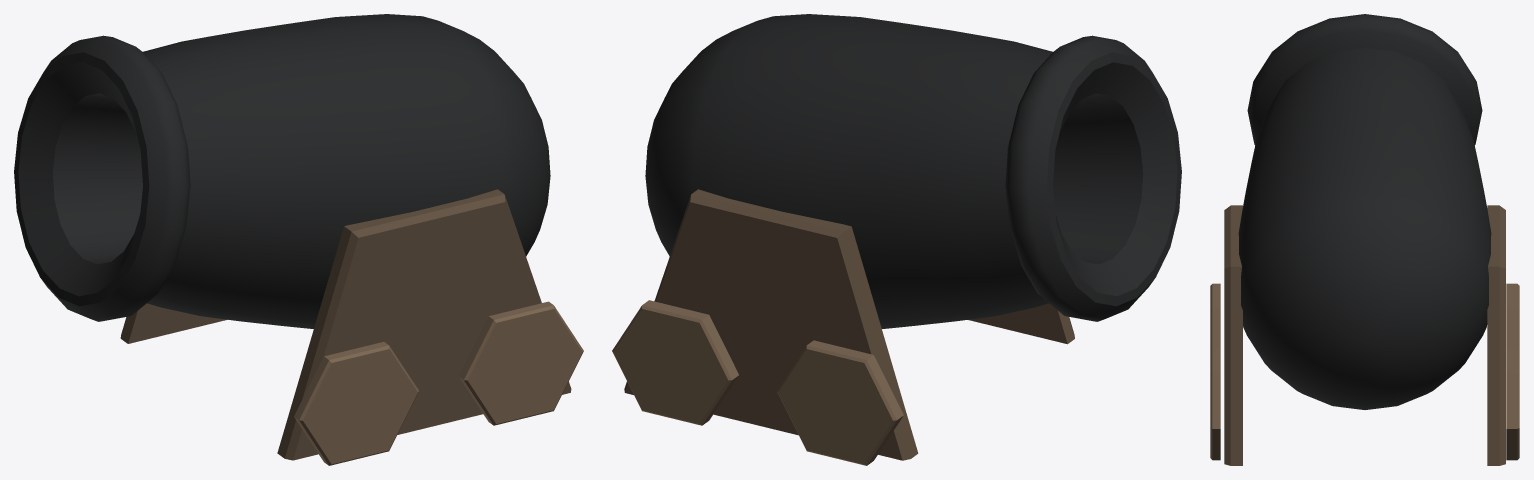
File: Canon_UNITY 1.fbx
3 renders of one model, left to right at view 1: azimuth 30°, elevation 25°; view 2: azimuth 150°, elevation 25°; view 3: azimuth 270°, elevation 25°, orthographic. The views are drawn at different scales.
Parts seen in each view (by area): view 1: canon2:canon, canon2:bois, canon2:tige; view 2: canon2:canon, canon2:bois, canon2:tige; view 3: canon2:canon, canon2:bois, canon2:tige.
Part boxes in pixels (x1,y1,x2,y2): canon2:canon: (14,14,550,328); canon2:bois: (120,189,571,460); canon2:tige: (294,301,583,465); canon2:canon: (645,14,1181,328); canon2:bois: (624,189,1074,460); canon2:tige: (612,300,903,465); canon2:canon: (1238,14,1491,409); canon2:bois: (1224,205,1505,465); canon2:tige: (1210,283,1519,460).
Bounding box in the file's own units: 2.42 × 1.86 × 1.68.
Materials: 1 (1 with a texture image).
